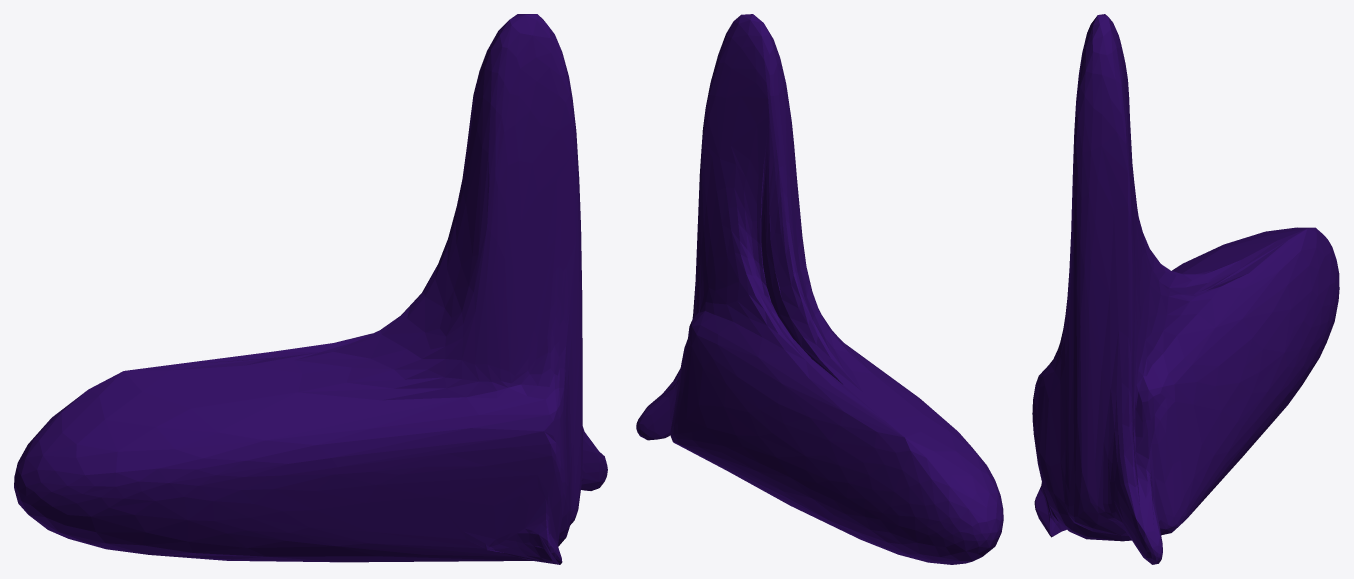
3 views of the same model, side by side, from view 1: azimuth 30°, elevation 25°; view 2: azimuth 150°, elevation 25°; view 3: azimuth 270°, elevation 25° (orthographic). The views are drawn at different scales.
Visible parts, largest first — view 1: 320_Cube.1310; view 2: 320_Cube.1310; view 3: 320_Cube.1310.
Part boxes in pixels (left/top/right/bottom): 320_Cube.1310: left=14, top=14, right=607, bottom=564; 320_Cube.1310: left=636, top=14, right=1003, bottom=564; 320_Cube.1310: left=1032, top=14, right=1339, bottom=564.
Size of the model in its own units: 11.94 by 11.9 by 6.4.
